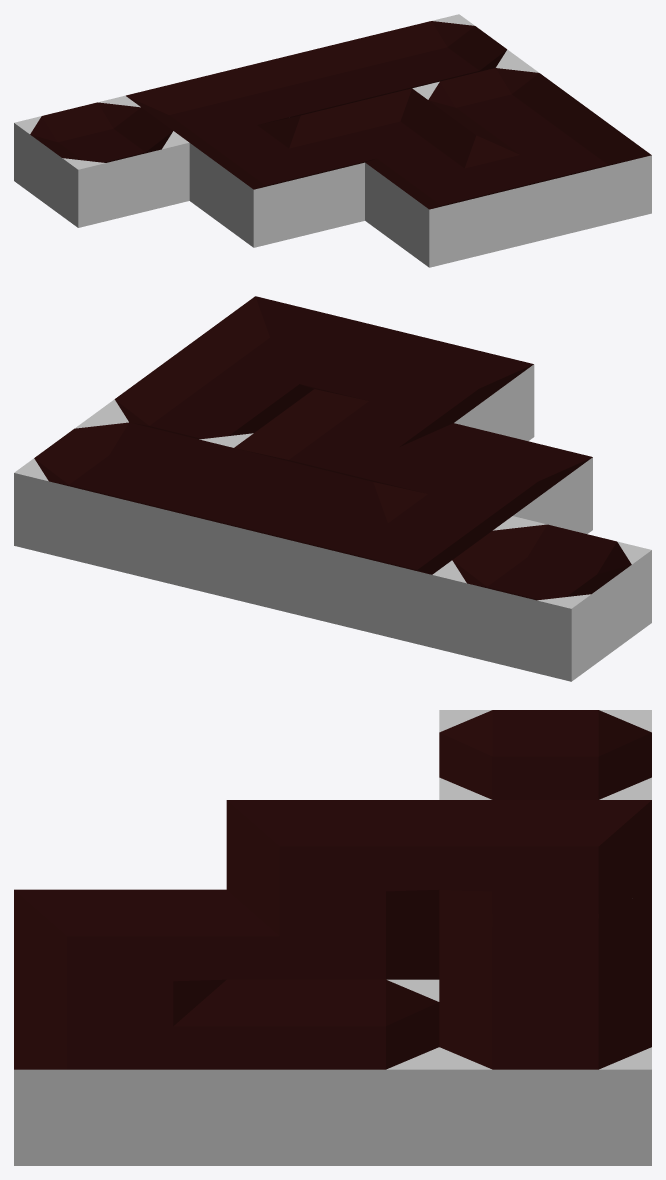
File: 41s_path.obj
3 views of the same model, one above another, from view 1: azimuth 30°, elevation 25°; view 2: azimuth 150°, elevation 25°; view 3: azimuth 270°, elevation 25° (orthographic). The views are drawn at different scales.
Parts seen in each view (by area): view 1: hole.1.2_Cube.082, corner.3.0_corner.408, corner.2.1_corner.406, corner.4.0_corner.410, corner.3.1_corner.409, ending.4.1_ending.161, ending.4.2_ending.162, corner.2.2_corner.407, through.3.2_through.078; view 2: hole.1.2_Cube.082, ending.4.2_ending.162, through.3.2_through.078, corner.2.2_corner.407, corner.3.0_corner.408, corner.2.1_corner.406, corner.4.0_corner.410, corner.3.1_corner.409, ending.4.1_ending.161; view 3: ending.4.1_ending.161, corner.4.0_corner.410, ending.4.2_ending.162, corner.3.0_corner.408, corner.2.1_corner.406, corner.2.2_corner.407, through.3.2_through.078, hole.1.2_Cube.082, corner.3.1_corner.409.
Part boxes in pixels (x1,y1,x2,y2): hole.1.2_Cube.082: (14, 95, 189, 227); corner.3.0_corner.408: (365, 135, 540, 267); corner.2.1_corner.406: (189, 115, 364, 247); corner.4.0_corner.410: (476, 108, 651, 240); corner.3.1_corner.409: (301, 88, 475, 170); ending.4.1_ending.161: (412, 61, 587, 142); ending.4.2_ending.162: (348, 14, 522, 90); corner.2.2_corner.407: (126, 68, 299, 150); through.3.2_through.078: (236, 41, 409, 118); hole.1.2_Cube.082: (432, 516, 651, 681); ending.4.2_ending.162: (14, 414, 233, 579); through.3.2_through.078: (153, 448, 372, 613); corner.2.2_corner.407: (292, 482, 511, 647); corner.3.0_corner.408: (314, 330, 534, 441); corner.2.1_corner.406: (373, 423, 592, 533); corner.4.0_corner.410: (175, 296, 394, 398); corner.3.1_corner.409: (234, 389, 453, 485); ending.4.1_ending.161: (95, 355, 313, 447); ending.4.1_ending.161: (226, 979, 439, 1165); corner.4.0_corner.410: (14, 980, 226, 1165); ending.4.2_ending.162: (439, 980, 651, 1165); corner.3.0_corner.408: (14, 889, 226, 1003); corner.2.1_corner.406: (226, 800, 439, 913); corner.2.2_corner.407: (439, 800, 651, 913); through.3.2_through.078: (439, 890, 651, 1003); hole.1.2_Cube.082: (439, 710, 651, 799); corner.3.1_corner.409: (226, 890, 439, 979).
Size of the model in its own units: 8 by 1 by 6.
